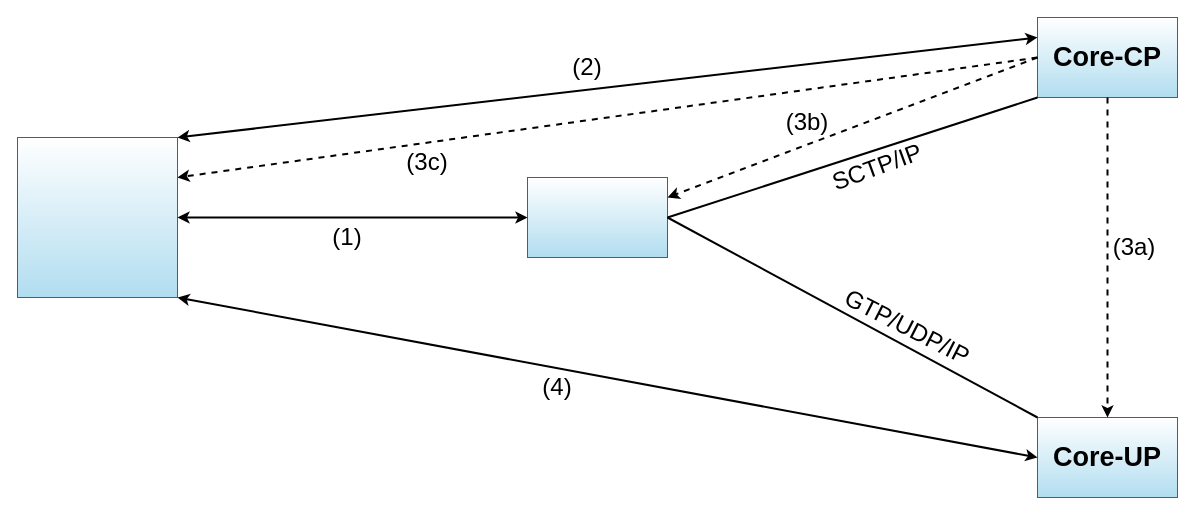
This 1195x515 diagram has some shape labels left out. The centre of each missing label's shape, as x and y in pixels:
"Base Station" goes at pixel 597 217.
"UE" goes at pixel 97 217.
